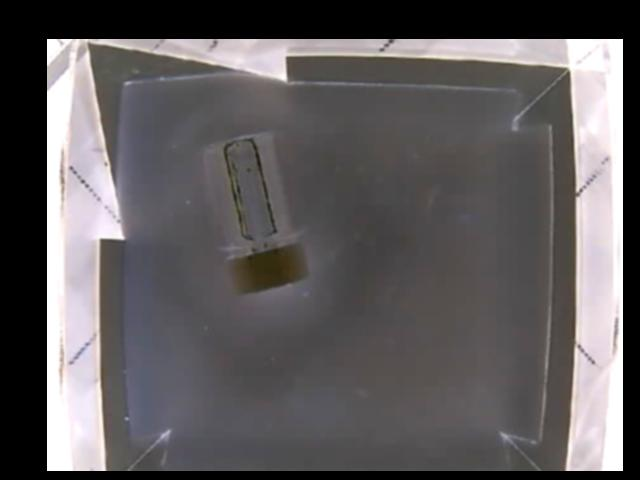Bottle: (201, 129, 310, 295)
